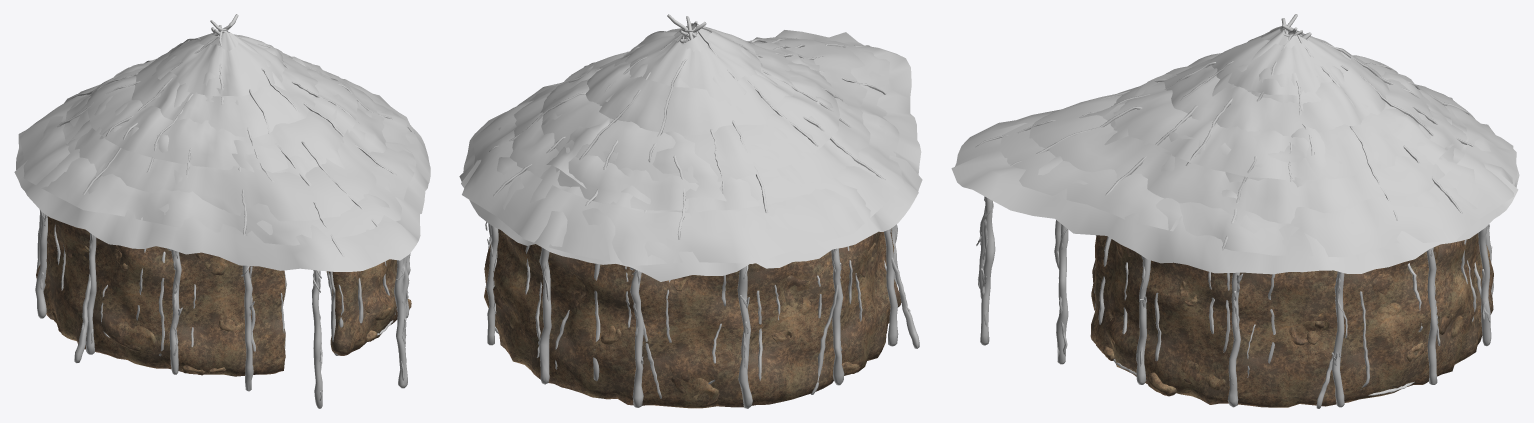
The model's file is highpoly_african_hut_003.obj.
3 renders of one model, left to right at view 1: azimuth 30°, elevation 25°; view 2: azimuth 150°, elevation 25°; view 3: azimuth 270°, elevation 25°, orthographic. The views are drawn at different scales.
Parts seen in each view (by area): view 1: highpoly_african_hut_002; view 2: highpoly_african_hut_002; view 3: highpoly_african_hut_002.
Boxes of the visible parts, <box> form: highpoly_african_hut_002: <box>14,14,430,408</box>; highpoly_african_hut_002: <box>459,14,922,408</box>; highpoly_african_hut_002: <box>951,14,1519,408</box>.
Bounding box in the file's own units: 4.5 × 3.32 × 5.5.
